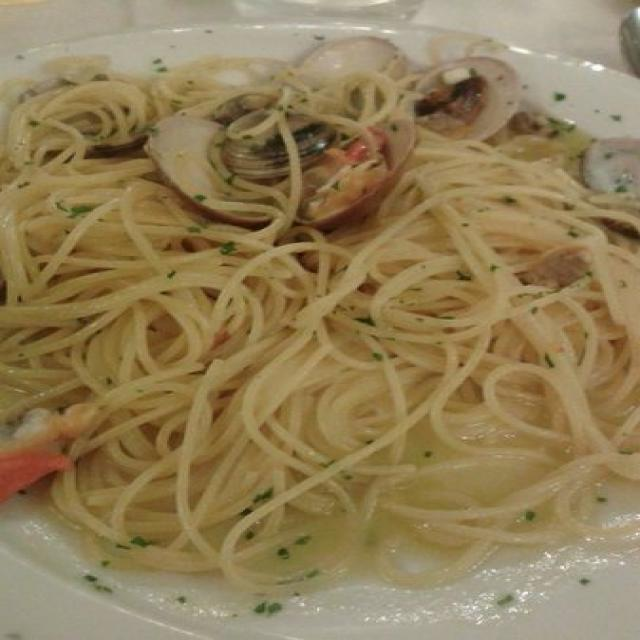Oil pasta: (12, 28, 631, 608)
